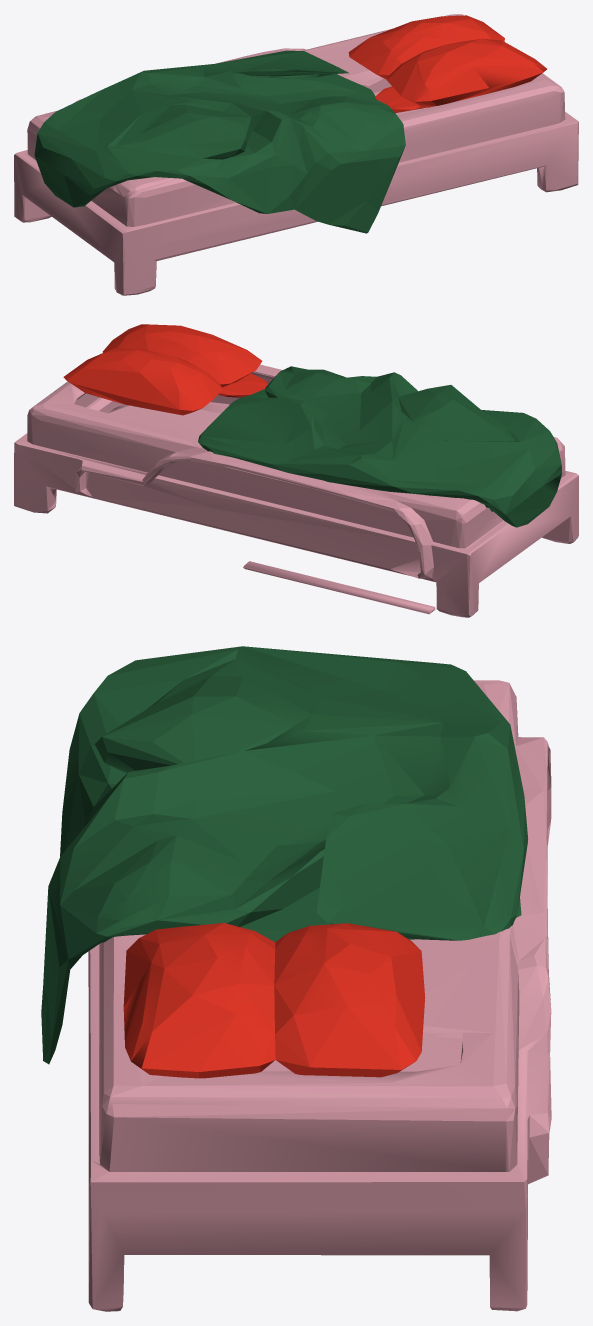
Rendered from cama.fbx.
The picture shows the model from 3 angles, top to bottom: view 1: azimuth 30°, elevation 25°; view 2: azimuth 150°, elevation 25°; view 3: azimuth 270°, elevation 25°; orthographic projection. The views are drawn at different scales.
Visible parts, largest first — view 1: cama; view 2: cama; view 3: cama.
Part boxes in pixels (<box>): cama: <box>14,14,578,295</box>; cama: <box>14,324,578,617</box>; cama: <box>41,646,551,1311</box>.
Size of the model in its own units: 0.38 by 0.11 by 0.18.
